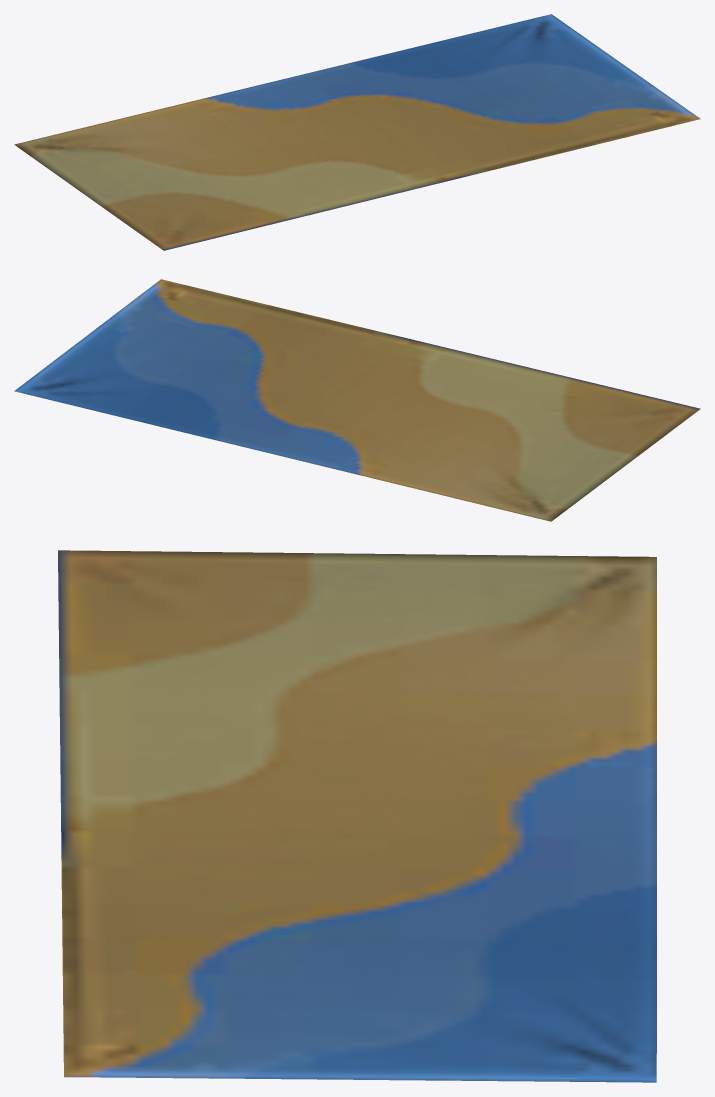
Rendered from pref_sm_beach_techcrowd_flag_shadow03_lv1.fbx.
3 renders of one model, top to bottom at view 1: azimuth 30°, elevation 25°; view 2: azimuth 150°, elevation 25°; view 3: azimuth 270°, elevation 25°, orthographic. The views are drawn at different scales.
Parts seen in each view (by area): view 1: pref_sm_beach_techcrowd_flag_shadow03_lv1; view 2: pref_sm_beach_techcrowd_flag_shadow03_lv1; view 3: pref_sm_beach_techcrowd_flag_shadow03_lv1.
Boxes of the visible parts, x1,y1,x2,y2 form: pref_sm_beach_techcrowd_flag_shadow03_lv1: (14, 14, 700, 250); pref_sm_beach_techcrowd_flag_shadow03_lv1: (14, 279, 700, 521); pref_sm_beach_techcrowd_flag_shadow03_lv1: (58, 550, 656, 1082).
Size of the model in its own units: 11.56 by 0.081 by 5.57.
